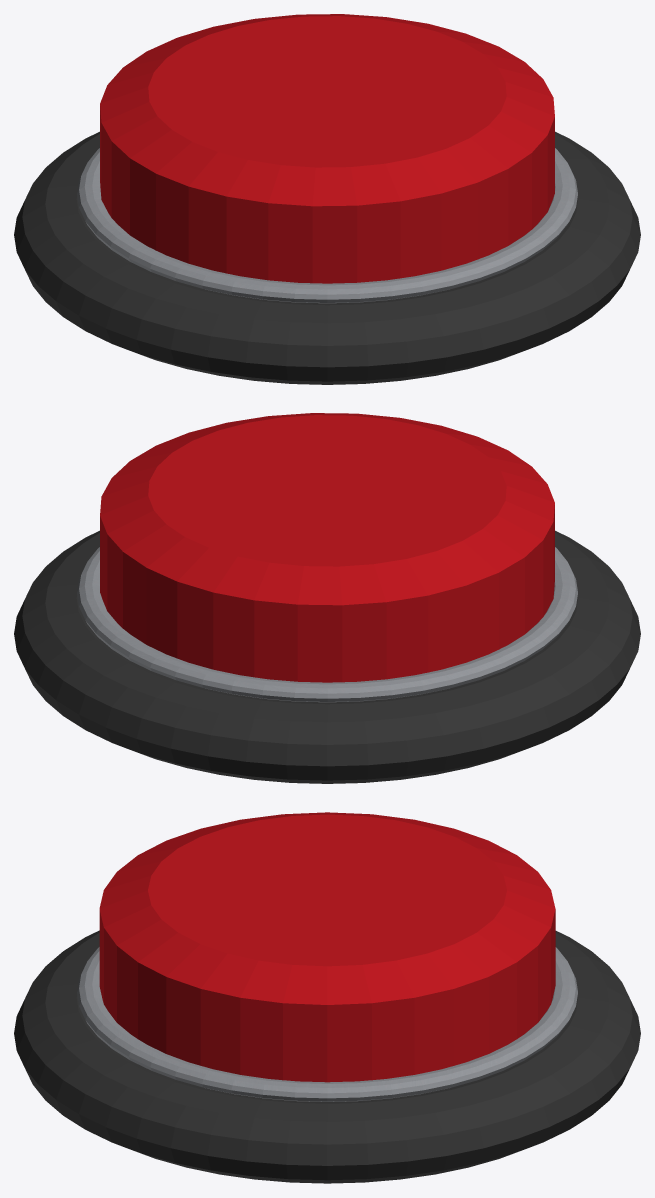
Rendered from button1.gltf.
3 views of the same model, one above another, from view 1: azimuth 30°, elevation 25°; view 2: azimuth 150°, elevation 25°; view 3: azimuth 270°, elevation 25° (orthographic).
Visible parts, largest first — view 1: Cylinder, Torus, Torus.001; view 2: Cylinder, Torus, Torus.001; view 3: Cylinder, Torus, Torus.001.
Boxes of the visible parts, x1,y1,x2,y2 form: Cylinder: (100, 14, 554, 283); Torus: (14, 131, 640, 384); Torus.001: (77, 148, 577, 303); Cylinder: (100, 413, 554, 682); Torus: (14, 530, 640, 783); Torus.001: (77, 547, 577, 702); Cylinder: (99, 812, 555, 1082); Torus: (14, 930, 640, 1183); Torus.001: (77, 947, 577, 1101).
Bounding box in the file's own units: 2.75 × 0.8648 × 2.75.
Materials: 3 (1 with a texture image).
